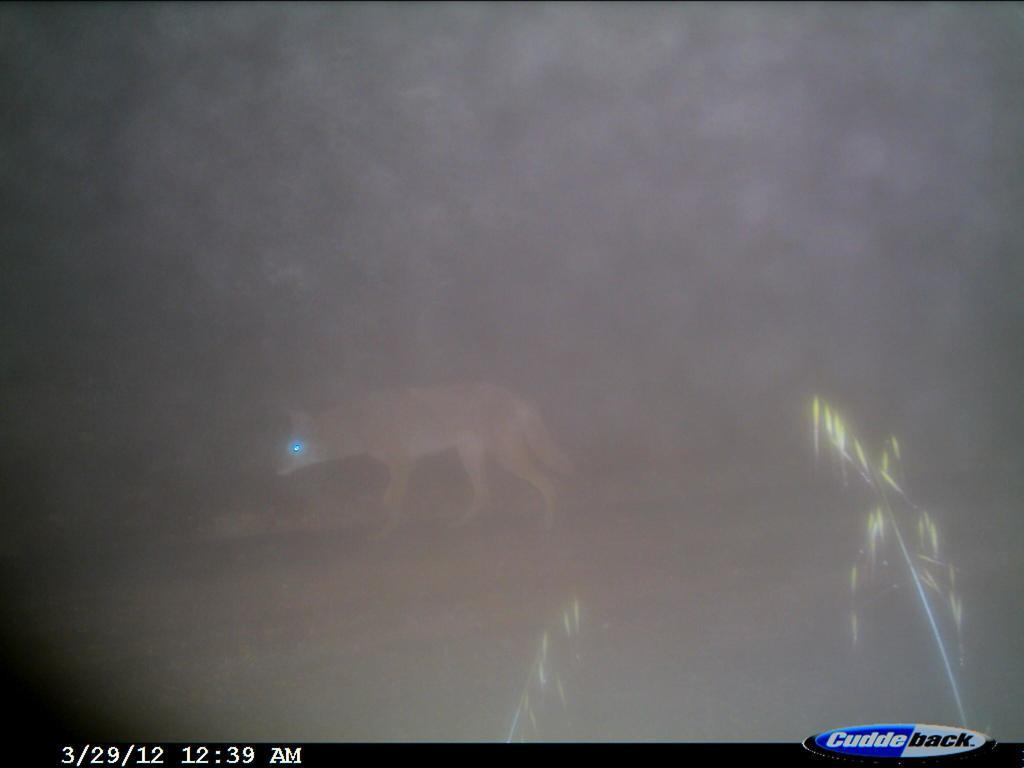coyote: (263, 379, 575, 553)
